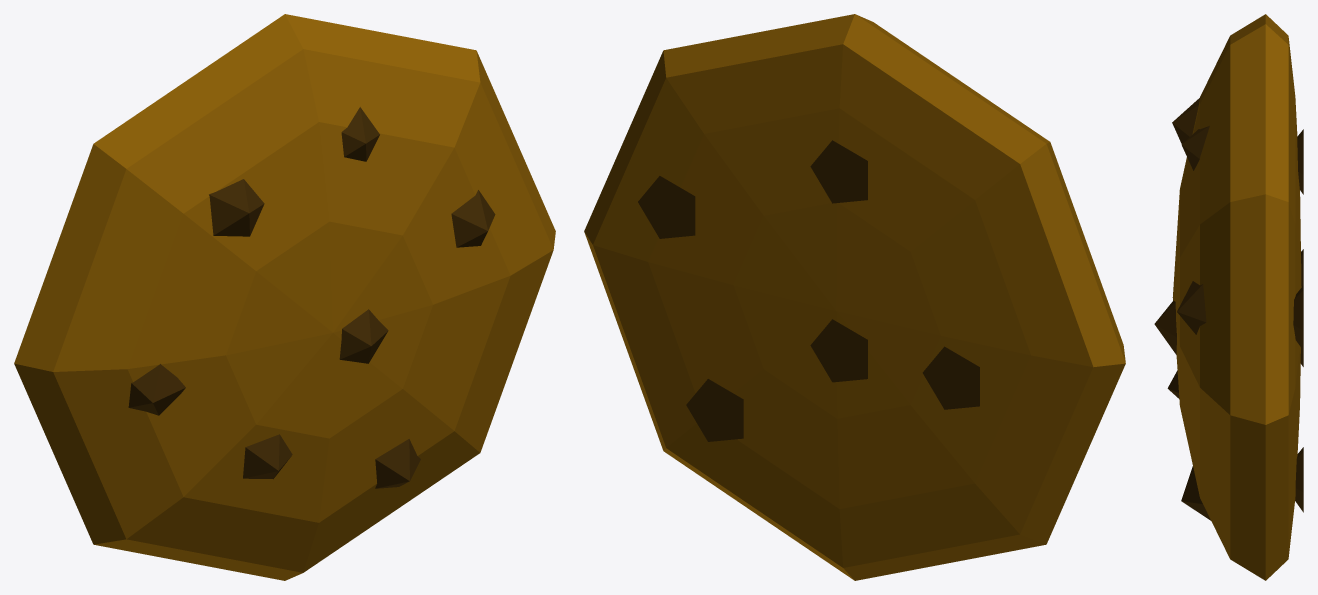
Rendered from CookiePrize.fbx.
3 renders of one model, left to right at view 1: azimuth 30°, elevation 25°; view 2: azimuth 150°, elevation 25°; view 3: azimuth 270°, elevation 25°, orthographic. The views are drawn at different scales.
Visible parts, largest first — view 1: CookiePrize; view 2: CookiePrize; view 3: CookiePrize.
Part boxes in pixels (box(x1,y1,x2,y2)): CookiePrize: box(14, 14, 555, 580); CookiePrize: box(584, 14, 1125, 580); CookiePrize: box(1154, 14, 1303, 580).
Size of the model in its own units: 2 by 2 by 0.4949.
